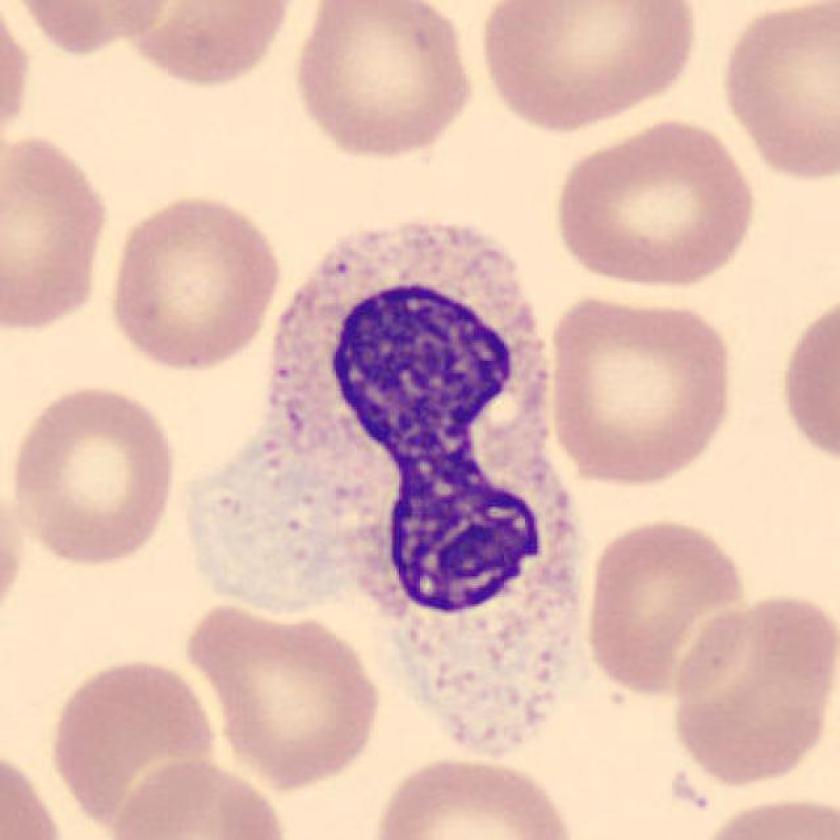neutrophil: (201, 218, 581, 756)
